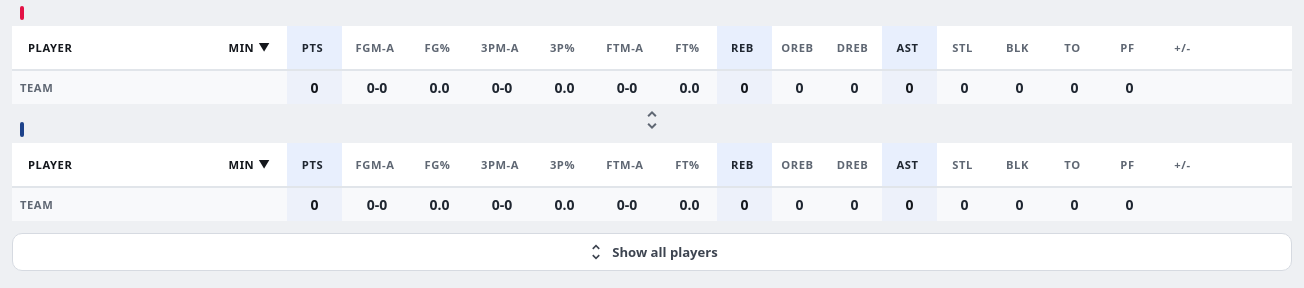
Scenario: Boxscore › keeps the in-between and bottom buttons in sync
Click the button named "Show more stats".
click(652, 120)  # box [632, 100, 672, 140]
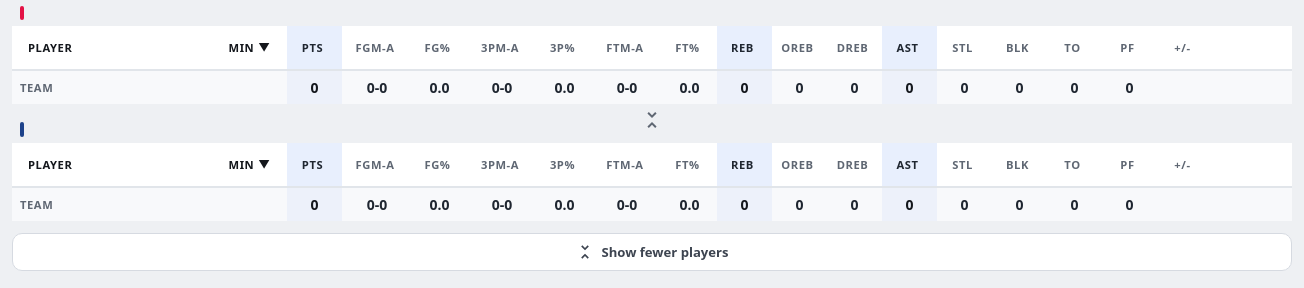
Expected: the button "Show fewer players" is shown
Click the button "Show fewer players".
click(652, 252)  # box [12, 233, 1292, 271]
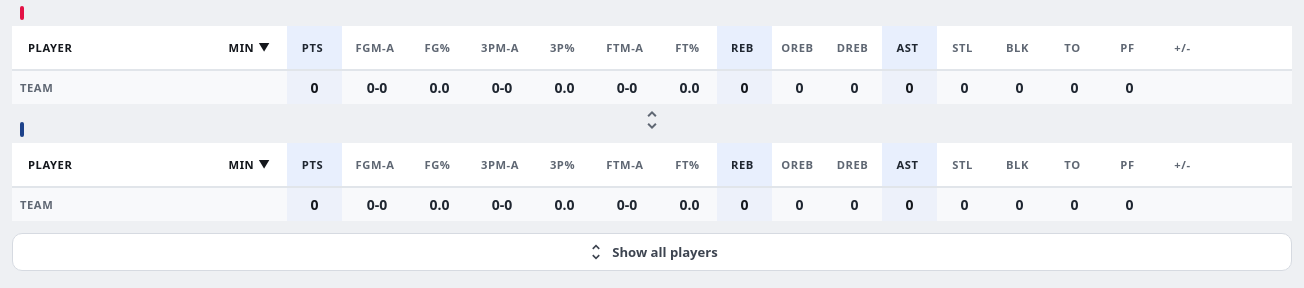
Expected: the button named "Show more stats" is shown, [632, 100, 672, 140]
Expected: the button "Show all players" is shown, [12, 233, 1292, 271]
